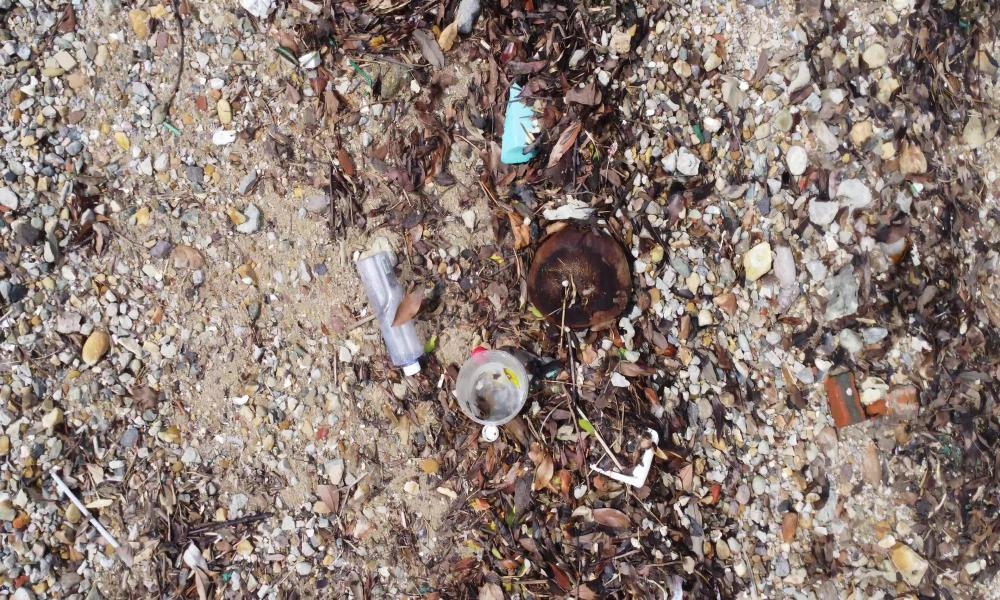plastic bottle: (356, 247, 424, 380)
plastic container: (456, 342, 529, 426)
